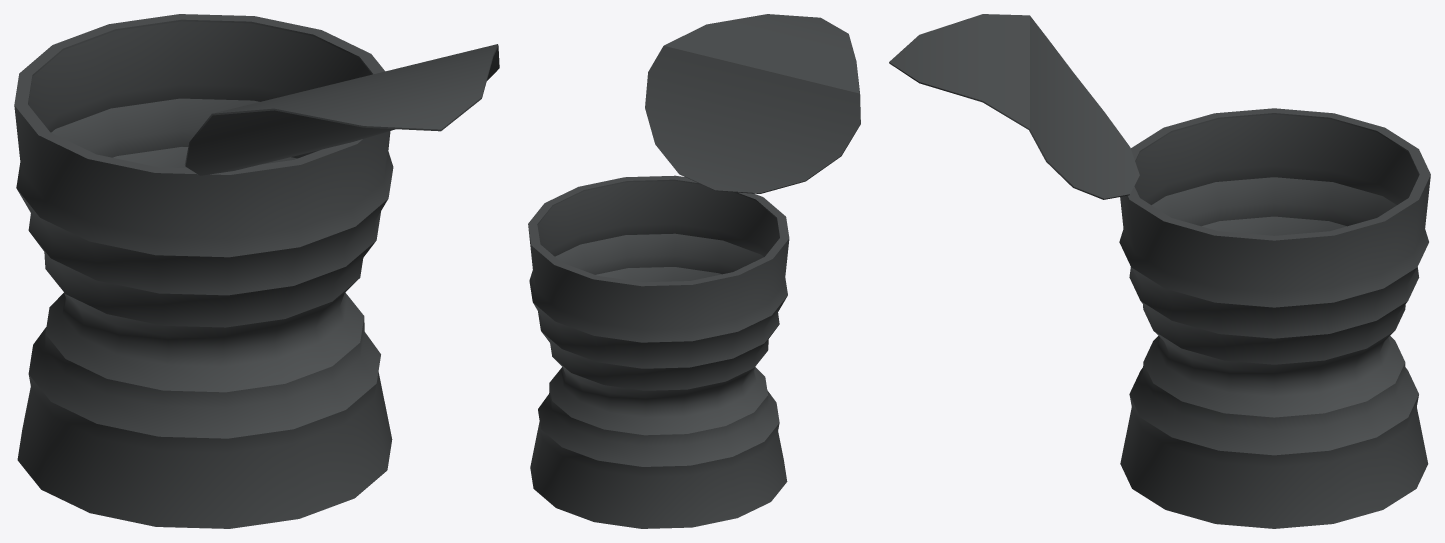
Rendered from Lata_02.fbx.
3 renders of one model, left to right at view 1: azimuth 30°, elevation 25°; view 2: azimuth 150°, elevation 25°; view 3: azimuth 270°, elevation 25°, orthographic. The views are drawn at different scales.
Parts seen in each view (by area): view 1: Lata_02; view 2: Lata_02; view 3: Lata_02.
Part boxes in pixels (<box>): Lata_02: <box>14,14,499,528</box>; Lata_02: <box>528,14,860,528</box>; Lata_02: <box>889,14,1430,528</box>.
Bounding box in the file's own units: 27.73 × 39.7 × 47.97.
